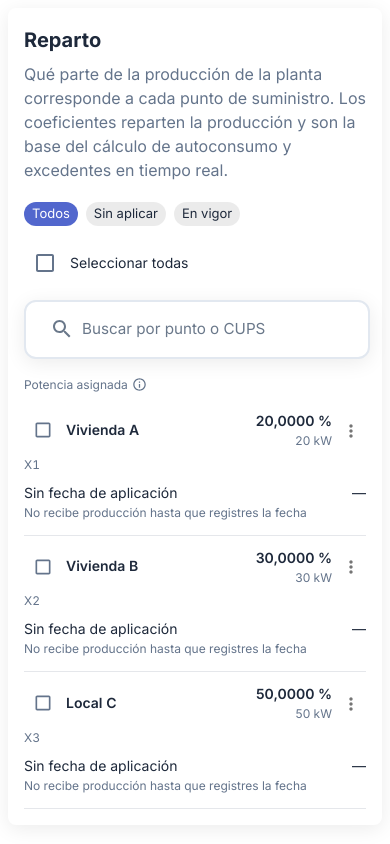
Test: SharingAgreementCoefficientSet (batch activation) › header checkbox: checked when every visible actionable row is selected, and clicking then deselects only the visible ones
# Select all 3, then narrow to 2 via search — the 3rd stays selected but hidden.
Click the checkbox named "Seleccionar todas las filas visibles". click: (45, 263)
box: 33,251 -> 57,275
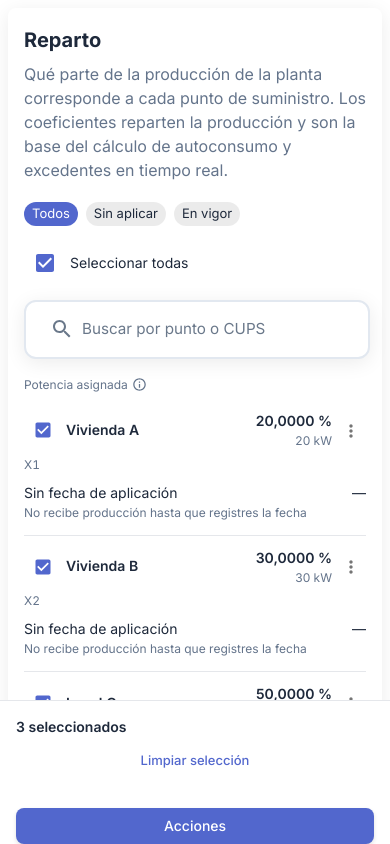
Type "Vivienda" into the search field with placeholder "Buscar por punto o CUPS". click: (217, 329)
box: 82,314 -> 352,345
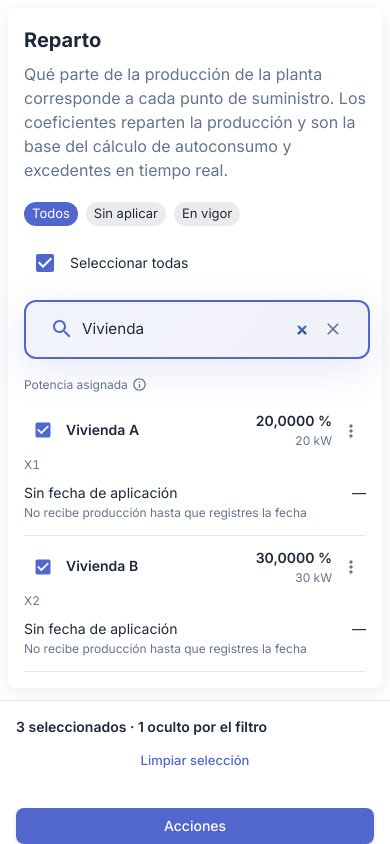
Check: the checkbox named "Seleccionar todas las filas visibles" is checked
Check: the text "3 seleccionados · 1 oculto por el filtro" is shown, box 16,718 -> 267,735
Click the checkbox named "Seleccionar todas las filas visibles". click: (45, 263)
box: 33,251 -> 57,275
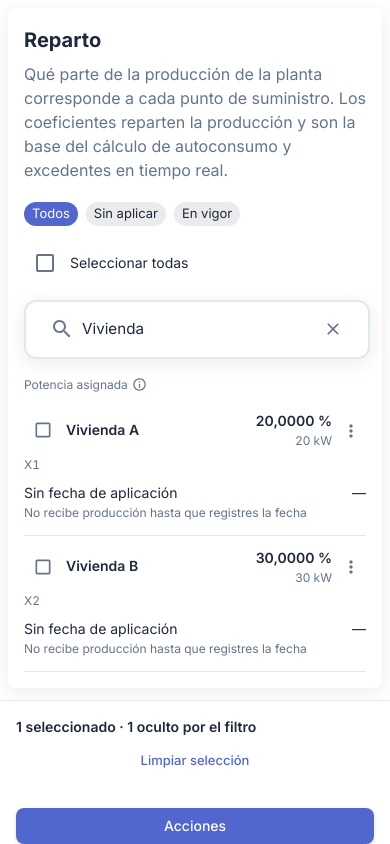
Check: the text "1 seleccionado · 1 oculto por el filtro" is shown, box 16,718 -> 256,735
